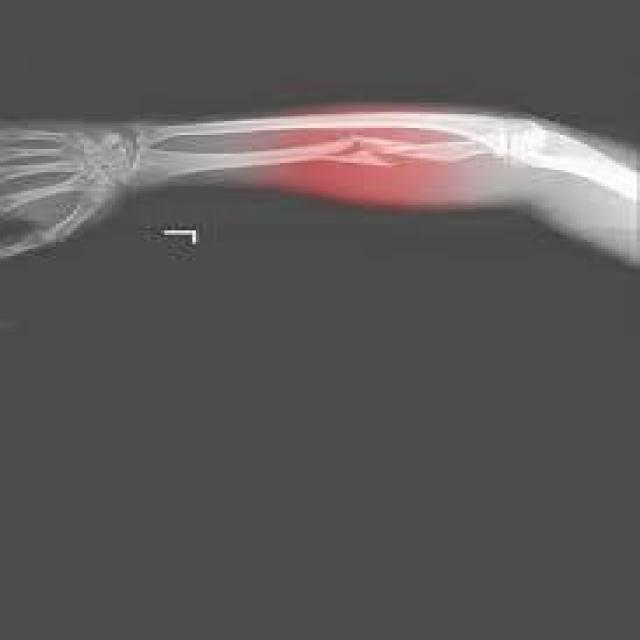bone: (312, 130, 400, 174)
